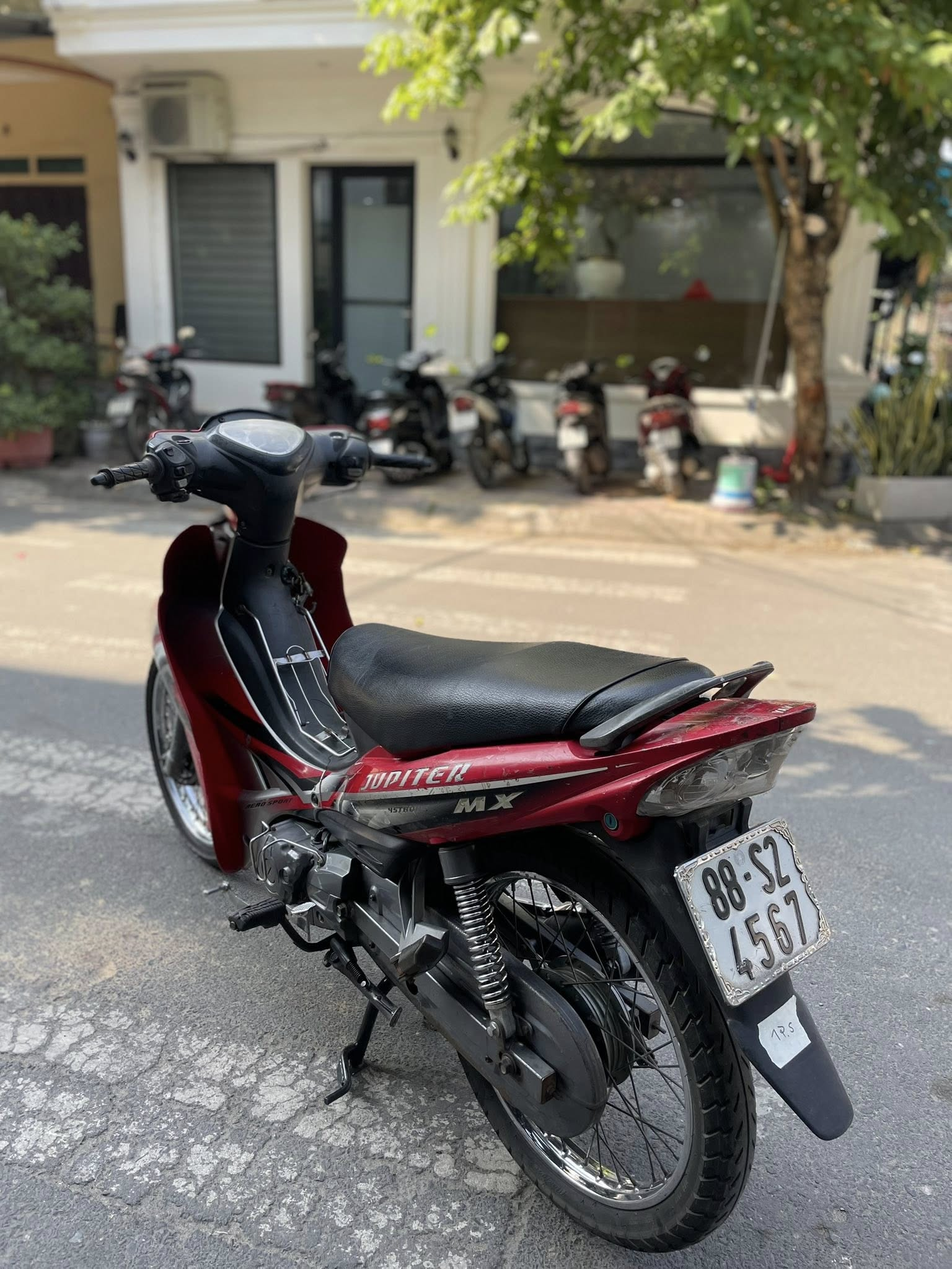bien_so: (669, 811, 837, 1016)
